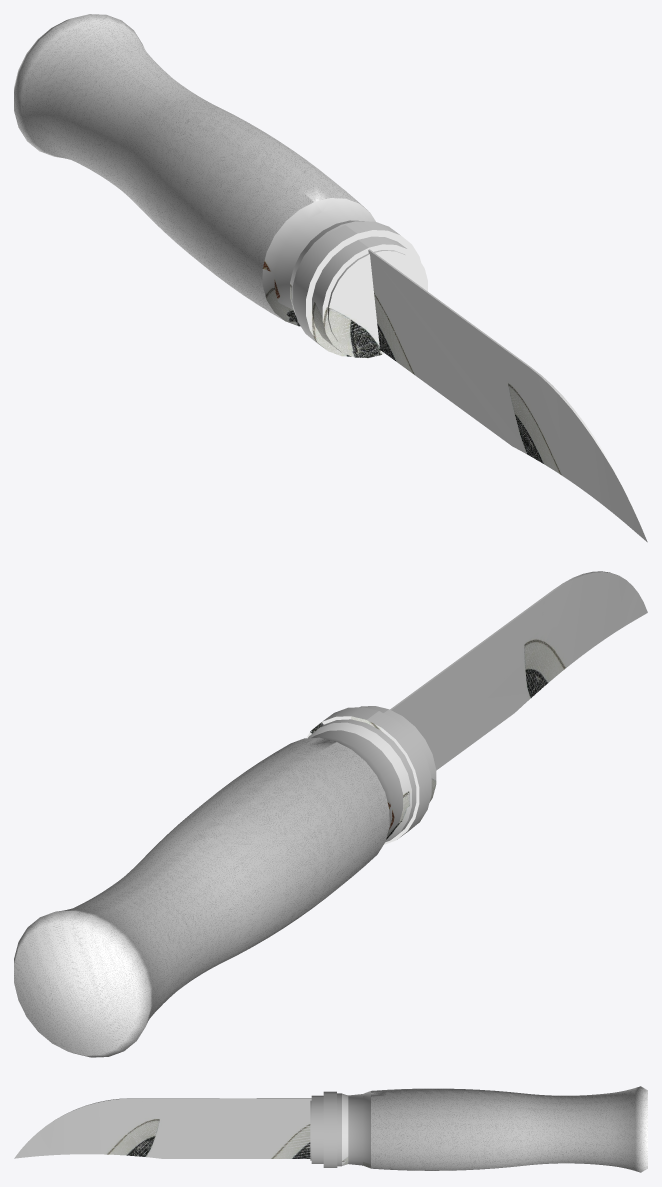
Rendered from model_align.obj.
3 views of the same model, one above another, from view 1: azimuth 30°, elevation 25°; view 2: azimuth 150°, elevation 25°; view 3: azimuth 270°, elevation 25° (orthographic). The views are drawn at different scales.
Parts seen in each view (by area): view 1: mesh1_mesh1-geometry; view 2: mesh1_mesh1-geometry; view 3: mesh1_mesh1-geometry.
Boxes of the visible parts, left/top/right/bottom form: mesh1_mesh1-geometry: left=14, top=14, right=647, bottom=542; mesh1_mesh1-geometry: left=14, top=571, right=647, bottom=1057; mesh1_mesh1-geometry: left=14, top=1086, right=647, bottom=1172.
Bounding box in the file's own units: 0.0273 × 0.0273 × 0.2016.
